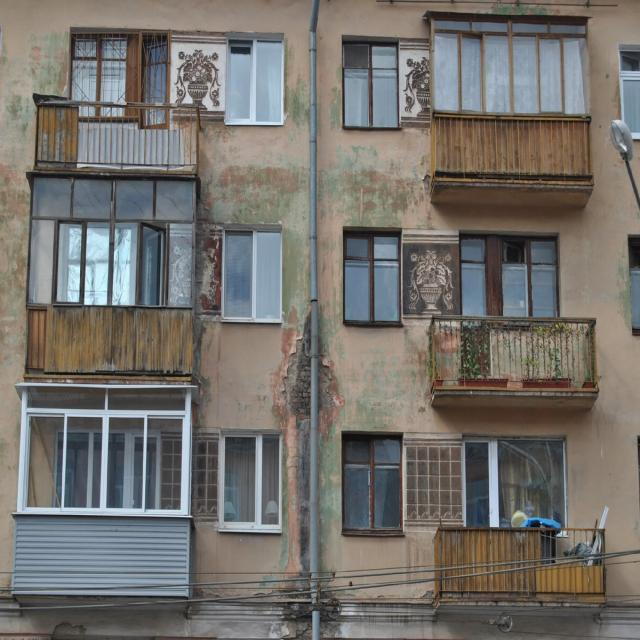Window: (32, 182, 194, 306), (448, 35, 580, 111), (464, 442, 564, 532), (460, 238, 557, 312), (76, 33, 170, 109), (70, 432, 160, 507), (220, 436, 279, 526), (342, 442, 400, 526), (347, 44, 400, 129), (345, 238, 398, 322), (227, 234, 280, 316), (228, 46, 280, 117), (622, 54, 640, 140), (626, 235, 639, 318)
